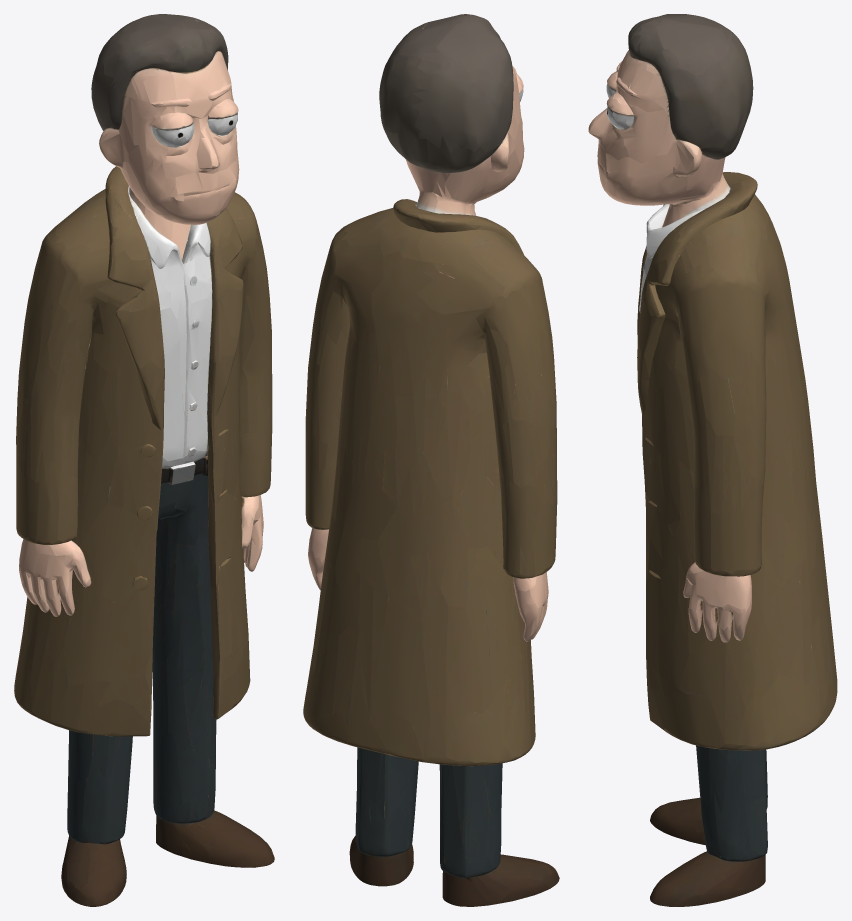
File: simman.glb
3 views of the same model, side by side, from view 1: azimuth 30°, elevation 25°; view 2: azimuth 150°, elevation 25°; view 3: azimuth 270°, elevation 25° (orthographic).
Bounding box in the file's own units: 0.5703 × 1.9 × 0.5113.
1 material, 1 textured.
